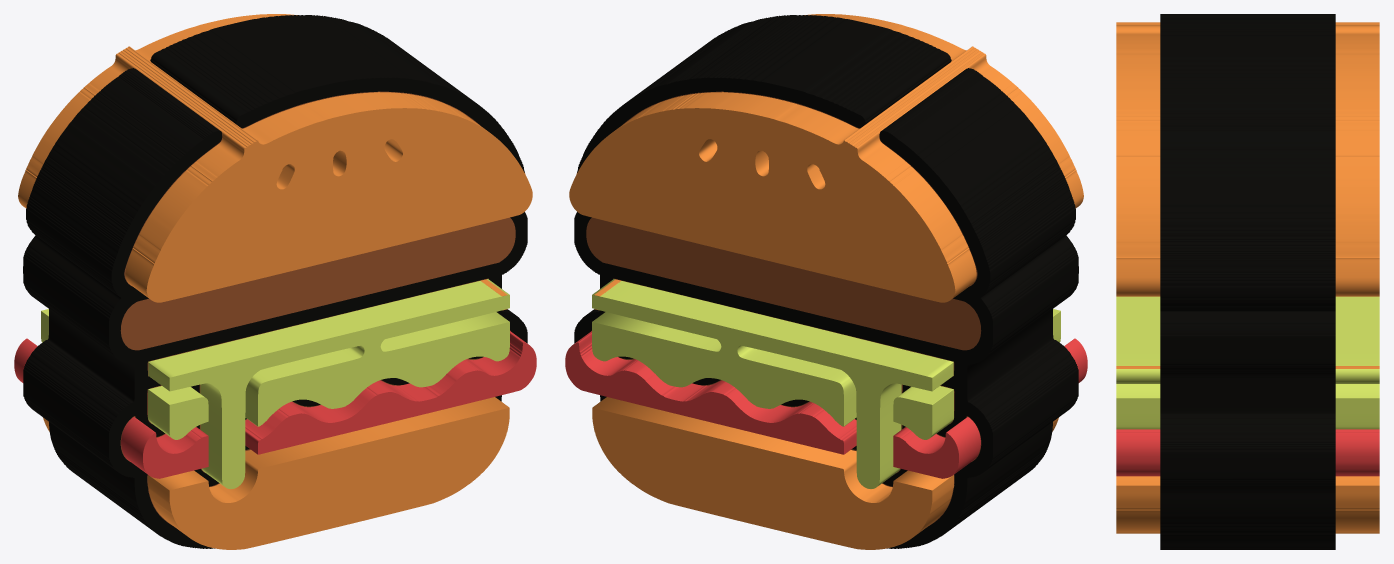
Rendered from Burguer.fbx.
3 views of the same model, side by side, from view 1: azimuth 30°, elevation 25°; view 2: azimuth 150°, elevation 25°; view 3: azimuth 270°, elevation 25° (orthographic). The views are drawn at different scales.
Visible parts, largest first — view 1: path1, path0, path3.001, path2, path4.001; view 2: path1, path0, path3.001, path2, path4.001; view 3: path0, path1, path3.001, path4.001.
Part boxes in pixels (bbox=[...]): path1: bbox=[18, 14, 532, 549]; path0: bbox=[23, 15, 527, 548]; path3.001: bbox=[41, 279, 509, 488]; path2: bbox=[120, 91, 515, 525]; path4.001: bbox=[14, 331, 536, 478]; path1: bbox=[569, 14, 1083, 549]; path0: bbox=[574, 15, 1078, 548]; path3.001: bbox=[592, 279, 1060, 488]; path2: bbox=[586, 91, 981, 525]; path4.001: bbox=[565, 331, 1087, 478]; path0: bbox=[1160, 14, 1335, 549]; path1: bbox=[1116, 22, 1379, 533]; path3.001: bbox=[1116, 296, 1379, 429]; path4.001: bbox=[1116, 429, 1379, 476].
Size of the model in its own units: 11.28 by 11.27 by 6.
